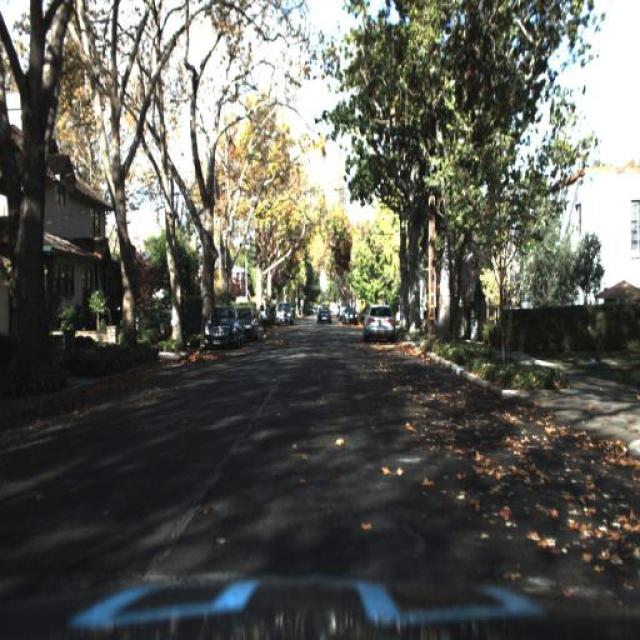car: (203, 294, 246, 356), (360, 304, 396, 344), (236, 299, 258, 345), (243, 296, 259, 342), (272, 299, 296, 325), (340, 306, 360, 329), (314, 305, 336, 325)
trafficLight: (258, 300, 270, 342), (259, 302, 270, 342)
